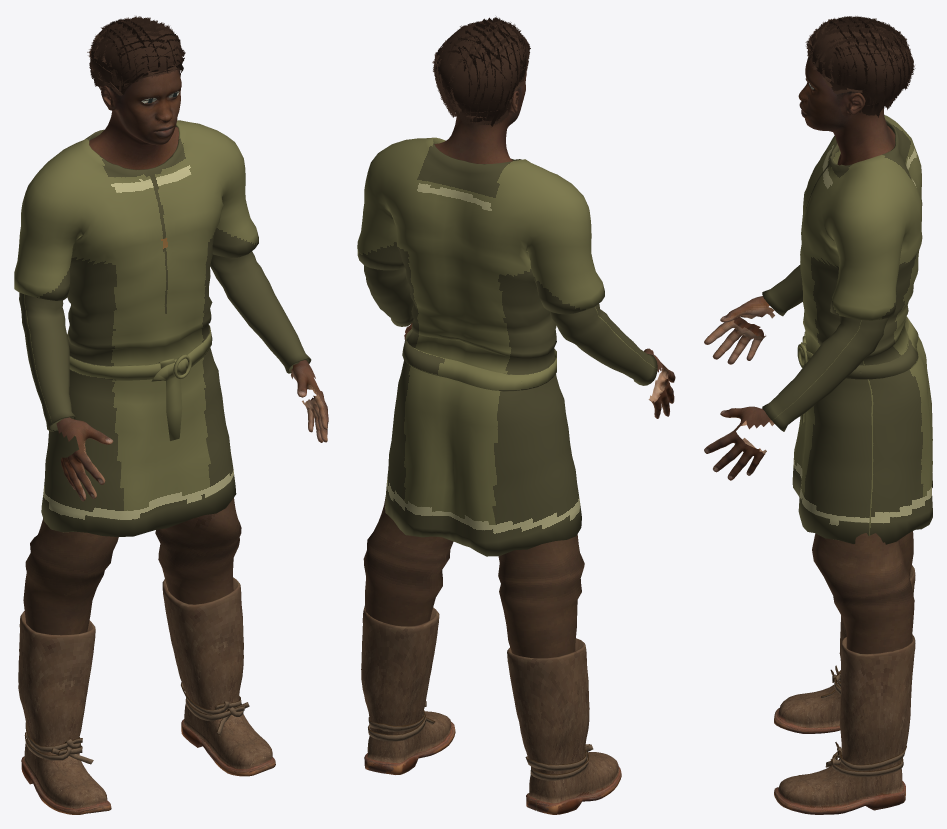
File: tavin-travel-coat.glb
3 renders of one model, left to right at view 1: azimuth 30°, elevation 25°; view 2: azimuth 150°, elevation 25°; view 3: azimuth 270°, elevation 25°, orthographic.
Parts seen in each view (by area): view 1: tavin-travel-coat runtime mesh; view 2: tavin-travel-coat runtime mesh; view 3: tavin-travel-coat runtime mesh.
Part boxes in pixels (box(x1,y1,x2,y2)): tavin-travel-coat runtime mesh: box(14, 16, 328, 814); tavin-travel-coat runtime mesh: box(357, 16, 675, 814); tavin-travel-coat runtime mesh: box(704, 16, 932, 814).
Bounding box in the file's own units: 0.6783 × 1.85 × 0.5156.
Materials: 8 (7 with a texture image).
